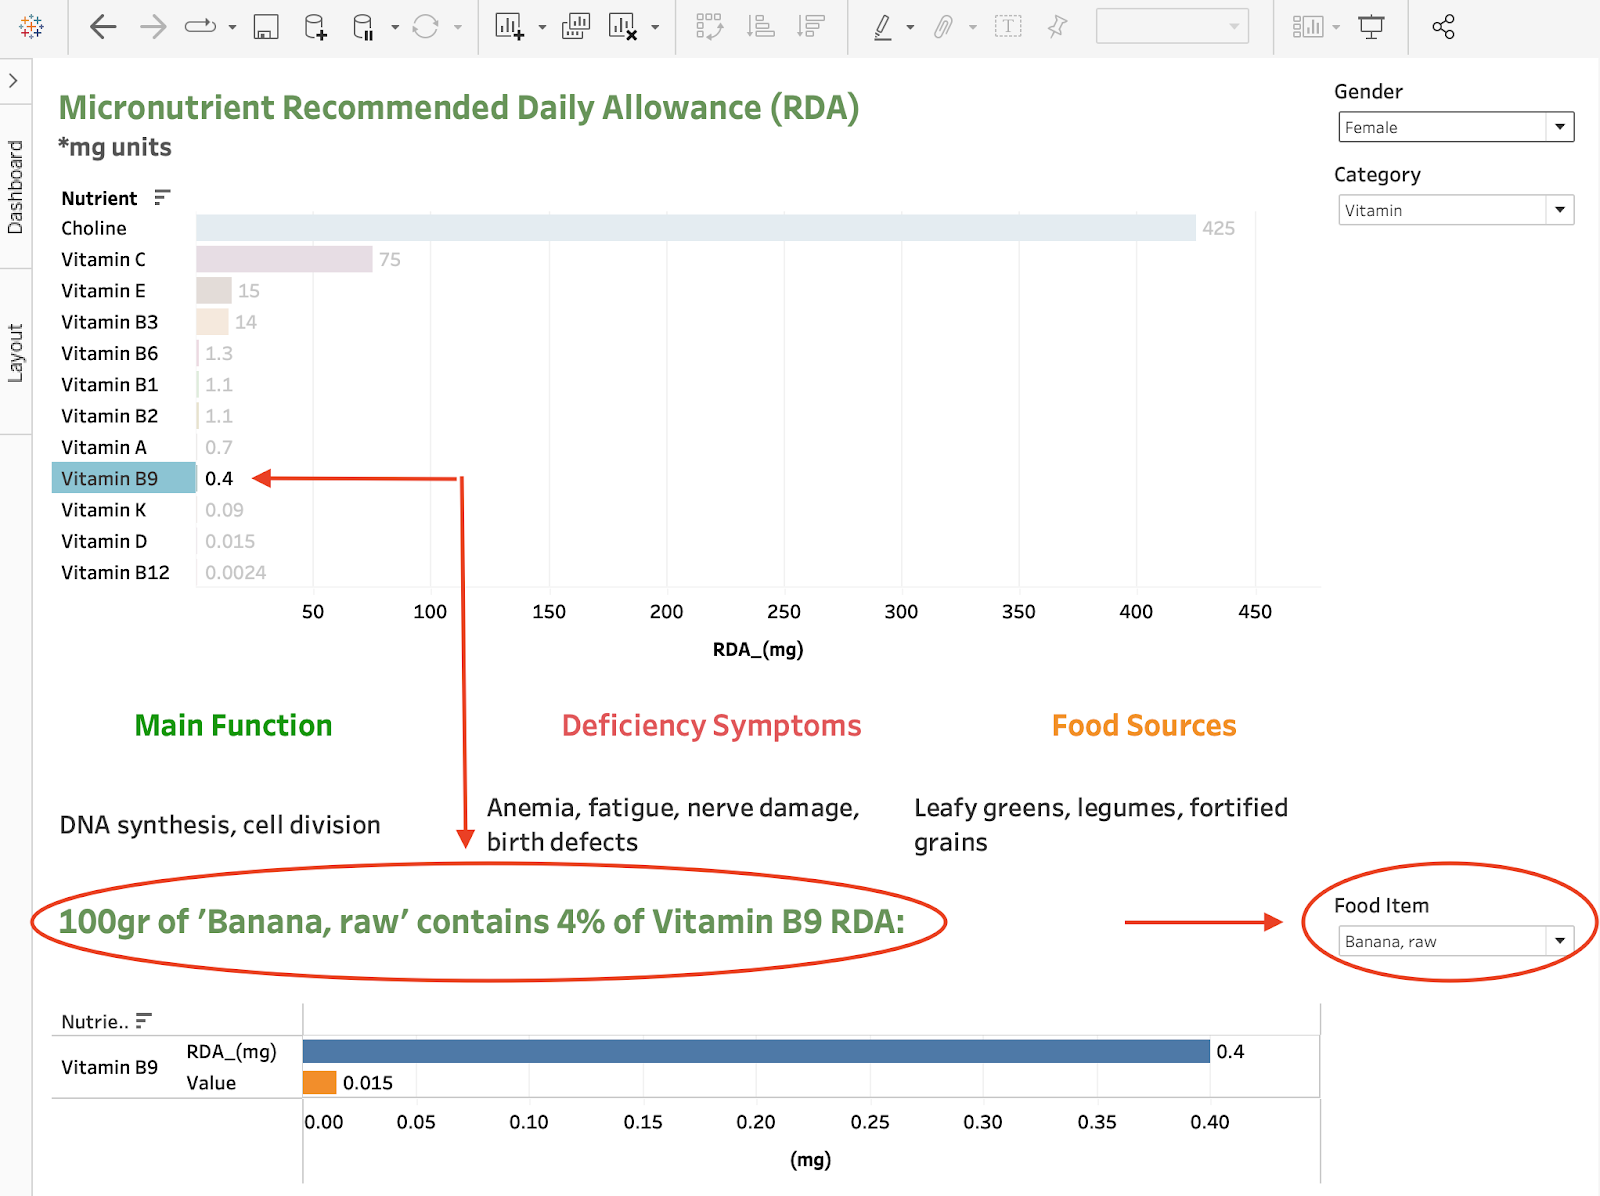

Layout of this report page (visuals, bound fields, positions):
{"tool":"tableau","page":{"name":"Micronutrients Dashboard","canvas":[1000,800],"ordinal":1},"visuals":[{"type":"worksheet","title":"Micro-Nutrients RDA","mark":"Bar","rows":["Nutrient"],"cols":["RDA_(mg)"],"box":[8,8,819,392]},{"type":"filter","title":"Micro-Nutrients RDA","param":"[federated.1134xgr17hco0n18s5jtc02e33mv].[none:Gender:nk]","box":[827,8,165,53]},{"type":"filter","title":"Micro-Nutrients RDA","param":"[federated.1134xgr17hco0n18s5jtc02e33mv].[none:Category:nk]","box":[827,61,165,53]},{"type":"blank","box":[827,114,165,150]},{"type":"image","param":"Image/cog.jpg","box":[8,400,50,50]},{"type":"text","box":[58,400,223,50]},{"type":"image","param":"Image/stethoscope.jpg","box":[281,400,50,50]},{"type":"text","box":[331,400,223,50]},{"type":"blank","box":[554,400,40,50]},{"type":"image","param":"Image/carrot-icon.png","box":[594,400,50,50]},{"type":"text","box":[644,400,183,50]},{"type":"worksheet","title":"Main_Functions","mark":"Automatic","box":[8,450,273,78]},{"type":"worksheet","title":"Deficiency_Sympotms","mark":"Automatic","box":[281,450,273,78]},{"type":"worksheet","title":"Rich_Food_Sources","mark":"Automatic","box":[554,450,273,78]},{"type":"worksheet","title":"Food_Items","mark":"Bar","rows":["Nutrient"],"box":[8,528,819,264]},{"type":"filter","title":"Food_Items","param":"[federated.1134xgr17hco0n18s5jtc02e33mv].[none:Main food description:nk]","box":[827,528,165,74]}]}

Visuals, with their boxes on the page's 1000x800 design canvas (x1, y1, x2, y2). These are canvas units, not pixel positions in the 1600x1196 screenshot, which may show the page scaled, cropped or inside an application window:
"Micro-Nutrients RDA" worksheet (Bar marks): BBox(8, 8, 827, 400)
"Micro-Nutrients RDA" filter: BBox(827, 8, 992, 61)
"Micro-Nutrients RDA" filter: BBox(827, 61, 992, 114)
blank: BBox(827, 114, 992, 264)
image: BBox(8, 400, 58, 450)
text: BBox(58, 400, 281, 450)
image: BBox(281, 400, 331, 450)
text: BBox(331, 400, 554, 450)
blank: BBox(554, 400, 594, 450)
image: BBox(594, 400, 644, 450)
text: BBox(644, 400, 827, 450)
"Main_Functions" worksheet: BBox(8, 450, 281, 528)
"Deficiency_Sympotms" worksheet: BBox(281, 450, 554, 528)
"Rich_Food_Sources" worksheet: BBox(554, 450, 827, 528)
"Food_Items" worksheet (Bar marks): BBox(8, 528, 827, 792)
"Food_Items" filter: BBox(827, 528, 992, 602)
